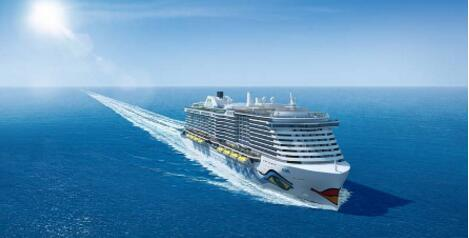youlun: (183, 84, 352, 209)
